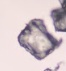microplastic: (15, 17, 63, 60), (49, 1, 65, 32), (42, 61, 64, 71)
